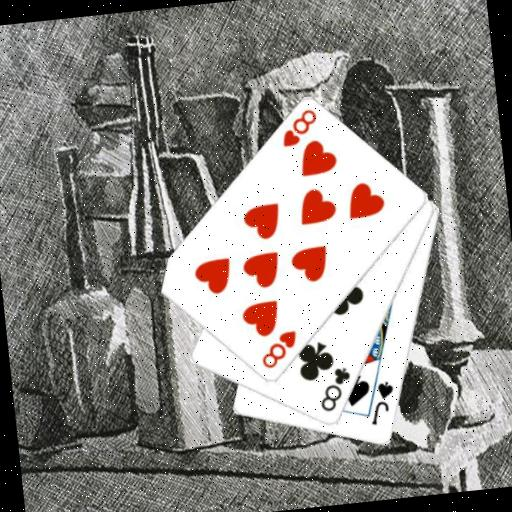8C: (314, 364, 356, 415)
8H: (256, 328, 302, 372), (276, 106, 322, 150)
JS: (364, 377, 399, 427)
